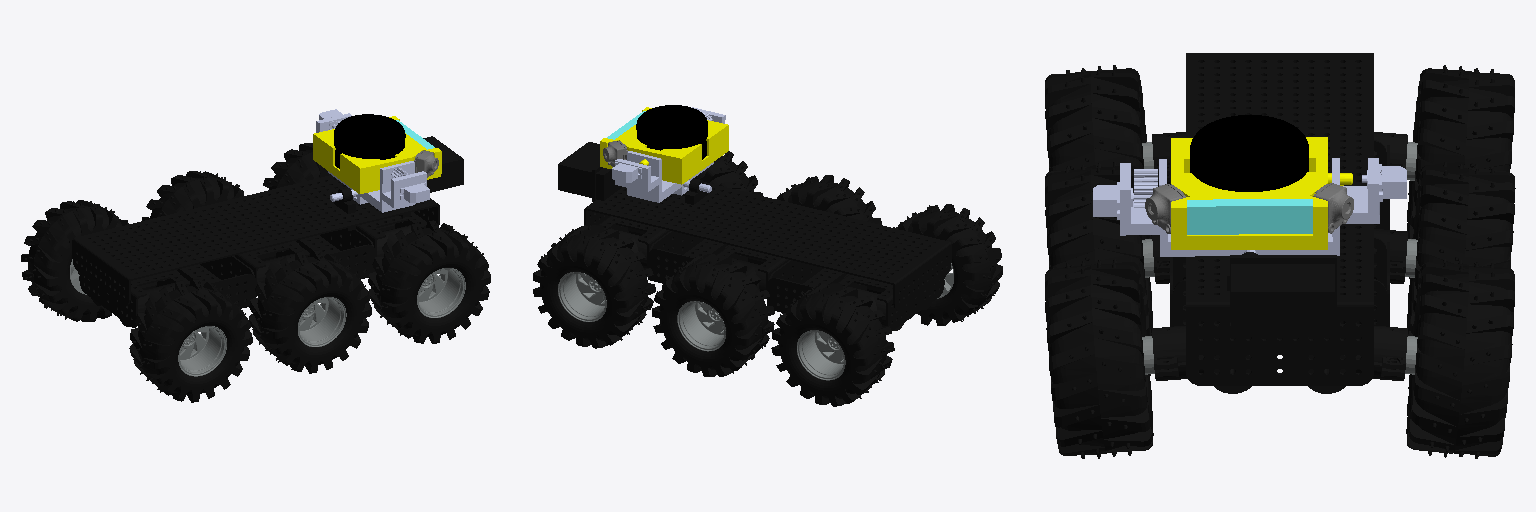
--- Facts derived from the render (not from the file) ---
Views: 3 orthographic renders of the robot side by side, from view 1: azimuth 30°, elevation 25°; view 2: azimuth 150°, elevation 25°; view 3: azimuth 270°, elevation 25°.
Model eyerobot with 26 links and 25 joints (2 revolute, 6 continuous, 17 fixed), rooted at base_footprint, posed every joint at zero.
Visible links, largest first — view 1: base_link, tire_mr, tire_rr, tire_fr, tire_rl, gimbal_pitch, gimbal_roll, rplidar, tire_ml, rim_rr, rim_fr, rim_mr (+1 smaller); view 2: base_link, tire_fl, tire_rl, tire_ml, tire_rr, gimbal_pitch, rplidar, gimbal_roll, tire_mr, rim_ml, rim_fl, rim_rl (+1 smaller); view 3: base_link, tire_fl, tire_fr, tire_rl, tire_ml, tire_rr, rplidar, tire_mr, gimbal_roll, gimbal_pitch, R200, motor_fr (+7 smaller).
Link boxes in pixels (bbox=[...]): base_link: bbox=[72, 136, 463, 327]; tire_mr: bbox=[249, 250, 371, 373]; tire_rr: bbox=[129, 279, 252, 402]; tire_fr: bbox=[368, 221, 490, 343]; tire_rl: bbox=[21, 200, 128, 321]; gimbal_pitch: bbox=[313, 116, 441, 193]; gimbal_roll: bbox=[316, 109, 429, 212]; rplidar: bbox=[334, 114, 405, 168]; tire_ml: bbox=[142, 171, 243, 220]; rim_rr: bbox=[178, 326, 226, 376]; rim_fr: bbox=[417, 268, 465, 317]; rim_mr: bbox=[298, 297, 346, 346]; base_link: bbox=[558, 142, 951, 330]; tire_fl: bbox=[533, 225, 655, 348]; tire_rl: bbox=[771, 283, 894, 406]; tire_ml: bbox=[652, 254, 774, 376]; tire_rr: bbox=[893, 204, 1002, 325]; gimbal_pitch: bbox=[600, 107, 728, 184]; rplidar: bbox=[636, 105, 707, 159]; gimbal_roll: bbox=[612, 107, 725, 202]; tire_mr: bbox=[776, 175, 881, 224]; rim_ml: bbox=[677, 301, 725, 351]; rim_fl: bbox=[558, 272, 606, 321]; rim_rl: bbox=[797, 330, 845, 380]; base_link: bbox=[1170, 53, 1389, 385]; tire_fl: bbox=[1406, 259, 1514, 458]; tire_fr: bbox=[1045, 259, 1153, 458]; tire_rl: bbox=[1407, 65, 1514, 238]; tire_ml: bbox=[1407, 162, 1515, 335]; tire_rr: bbox=[1045, 65, 1151, 238]; rplidar: bbox=[1190, 115, 1308, 191]; tire_mr: bbox=[1045, 162, 1152, 335]; gimbal_roll: bbox=[1093, 158, 1406, 256]; gimbal_pitch: bbox=[1171, 137, 1352, 249]; R200: bbox=[1187, 199, 1312, 234]; motor_fr: bbox=[1152, 326, 1251, 393].
Size in the robot's own frame: 0.4456 by 0.2998 by 0.2133 metres.
25 mesh visuals loaded from 24 distinct referenced files (24 binary STL).

robot.urdf — eyerobot:
<robot name="eyerobot">

<gazebo>
 <plugin name="gazebo_ros_control" filename="libgazebo_ros_control.so">
 <robotNamespace>/eyerobot</robotNamespace>
 <robotSimType>gazebo_ros_control/DefaultRobotHWSim</robotSimType>
 </plugin>
 <plugin name="imu_plugin" filename="libgazebo_ros_imu.so">
   <alwaysOn>true</alwaysOn>
   <bodyName>base_link</bodyName>
   <topicName>imu_base</topicName>
   <serviceName>imu_base_service</serviceName>
   <gaussianNoise>0.0</gaussianNoise>
   <updateRate>20.0</updateRate>
 </plugin>
 <plugin name="imu_plugin" filename="libgazebo_ros_imu.so">
   <alwaysOn>true</alwaysOn>
   <bodyName>gimbal_roll</bodyName>
   <topicName>imu_gimbal</topicName>
   <serviceName>imu_gimbal_service</serviceName>
   <gaussianNoise>0.0</gaussianNoise>
   <updateRate>20.0</updateRate>
 </plugin>

  <plugin name="skid_steer_drive_controller" filename="libgazebo_ros_skid_steer_drive.so">
    <updateRate>100.0</updateRate>
    <robotNamespace>/eyerobot</robotNamespace>
    <leftFrontJoint>motor_to_rim_fl</leftFrontJoint>
    <rightFrontJoint>motor_to_rim_fr</rightFrontJoint>
    <leftRearJoint>motor_to_rim_rl</leftRearJoint>
    <rightRearJoint>motor_to_rim_rr</rightRearJoint>
    <wheelSeparation>0.300</wheelSeparation>
    <wheelDiameter>0.120</wheelDiameter>
    <robotBaseFrame>base_link</robotBaseFrame>
    <torque>20</torque>
    <topicName>cmd_vel</topicName>
    <broadcastTF>false</broadcastTF>
  </plugin>

</gazebo>

<!-- <transmission name="trans_fl">
 <type>transmission_interface_SimpleTransmission</type>
 <joint name="motor_to_rim_fl">
  <hardwareInterface>EffortJointInterface</hardwareInterface>
 </joint>
 <actuator name="motor_fl">
  <hardwareInterface>EffortJointInterface</hardwareInterface>
  <mechanicalReduction>75</mechanicalReduction>
 </actuator>
</transmission>

<transmission name="trans_fr">
 <type>transmission_interface_SimpleTransmission</type>
 <joint name="motor_to_rim_fr">
  <hardwareInterface>EffortJointInterface</hardwareInterface>
 </joint>
 <actuator name="motor_fr">
  <hardwareInterface>EffortJointInterface</hardwareInterface>
  <mechanicalReduction>75</mechanicalReduction>
 </actuator>
</transmission>

<transmission name="trans_ml">
 <type>transmission_interface_SimpleTransmission</type>
 <joint name="motor_to_rim_ml">
  <hardwareInterface>EffortJointInterface</hardwareInterface>
 </joint>
 <actuator name="motor_ml">
  <hardwareInterface>EffortJointInterface</hardwareInterface>
  <mechanicalReduction>75</mechanicalReduction>
 </actuator>
</transmission>

<transmission name="trans_mr">
 <type>transmission_interface_SimpleTransmission</type>
 <joint name="motor_to_rim_mr">
  <hardwareInterface>EffortJointInterface</hardwareInterface>
 </joint>
 <actuator name="motor_mr">
  <hardwareInterface>EffortJointInterface</hardwareInterface>
  <mechanicalReduction>75</mechanicalReduction>
 </actuator>
</transmission>

<transmission name="trans_rl">
 <type>transmission_interface_SimpleTransmission</type>
 <joint name="motor_to_rim_rl">
  <hardwareInterface>EffortJointInterface</hardwareInterface>
 </joint>
 <actuator name="motor_rl">
  <hardwareInterface>EffortJointInterface</hardwareInterface>
  <mechanicalReduction>75</mechanicalReduction>
 </actuator>
</transmission>

<transmission name="trans_rr">
 <type>transmission_interface_SimpleTransmission</type>
 <joint name="motor_to_rim_rr">
  <hardwareInterface>EffortJointInterface</hardwareInterface>
 </joint>
 <actuator name="motor_rr">
  <hardwareInterface>EffortJointInterface</hardwareInterface>
  <mechanicalReduction>75</mechanicalReduction>
 </actuator>
</transmission> -->

<transmission name="gimbal_roll">
 <type>transmission_interface_SimpleTransmission</type>
 <joint name="base_link_to_gimbal_roll">
  <hardwareInterface>EffortJointInterface</hardwareInterface>
 </joint>
 <actuator name="gimbal_roll">
  <hardwareInterface>EffortJointInterface</hardwareInterface>
  <mechanicalReduction>1</mechanicalReduction>
 </actuator>
</transmission>

<transmission name="gimbal_pitch">
 <type>transmission_interface_SimpleTransmission</type>
 <joint name="gimbal_roll_to_pitch">
  <hardwareInterface>EffortJointInterface</hardwareInterface>
 </joint>
 <actuator name="gimbal_pitch">
  <hardwareInterface>EffortJointInterface</hardwareInterface>
  <mechanicalReduction>1</mechanicalReduction>
 </actuator>
</transmission>

<gazebo reference="base_link">
      <material>Gazebo/FlatBlack</material>
</gazebo>

<gazebo reference="gimbal_pitch">
      <material>Gazebo/DarkYellow</material>
</gazebo>

<gazebo reference="gimbal_roll">
      <material>Gazebo/ZincYellow</material>
</gazebo>

<gazebo reference="rplidar">
<material>Gazebo/TurquoiseGlowOutline</material>
<sensor type="gpu_ray" name="rplidar">
      <pose>0 0 0 0 0 0</pose>
      <visualize>false</visualize>
      <update_rate>10</update_rate>
      <ray>
        <scan>
          <horizontal>
            <samples>400</samples>
            <resolution>0.9</resolution>
            <min_angle>-3.1415926535</min_angle>
            <max_angle>3.1415926535</max_angle>
          </horizontal>
        </scan>
        <range>
          <min>0.015</min>
          <max>6.0</max>
          <resolution>0.005</resolution>
        </range>
        <noise>
          <type>gaussian</type>
          <mean>0.0</mean>
          <stddev>0.001</stddev>
        </noise>
      </ray>
      <plugin name="gazebo_ros_rplidar_controller" filename="libgazebo_ros_gpu_laser.so">
        <topicName>/laser/scan</topicName>
  <robotNamespace>eyerobot</robotNamespace>
        <frameName>rplidar</frameName>
      </plugin>
    </sensor>
</gazebo>

<gazebo reference="R200">
      <material>Gazebo/SkyBlue</material>
</gazebo>
<gazebo reference="xs_left">
 <sensor type="camera" name="xsleft">
  <update_rate>15.0</update_rate>
  <camera name="head">
  <horizontal_fov>1.396234</horizontal_fov>
  <image>
   <width>2592</width>
   <height>1944</height>
   <format>R8G8B8</format>
  </image>
  <clip>
   <near>0.02</near>
   <far>300</far>
  </clip>
  <noise>
   <type>gaussian</type>
   <mean>0.0</mean>
   <stddev>0.007</stddev>
  </noise>
 </camera>
 <plugin name="camera controller" filename="libgazebo_ros_camera.so">
  <alwaysOn>true</alwaysOn>
  <updateRate>0.0</updateRate>
  <cameraName>xsleft</cameraName>
  <robotNamespace>eyerobot</robotNamespace>
  <imageTopicName>xsleft/image_raw</imageTopicName>
  <cameraInfoTopicName>xsleft/camera_info</cameraInfoTopicName>
  <frameName>xs_left</frameName>
  <hackBaseline>0.07</hackBaseline>
  <distortionK1>0.0</distortionK1>
  <distortionK2>0.0</distortionK2>
  <distortionK3>0.0</distortionK3>
  <distortionT1>0.0</distortionT1>
  <distortionT2>0.0</distortionT2>
 </plugin>
 </sensor>
      <material>Gazebo/DarkGrey</material>
</gazebo>

<gazebo reference="xs_right">
 <sensor type="camera" name="xsright">
  <update_rate>15.0</update_rate>
  <camera name="head">
  <horizontal_fov>1.396234</horizontal_fov>
  <image>
   <width>2592</width>
   <height>1944</height>
   <format>R8G8B8</format>
  </image>
  <clip>
   <near>0.02</near>
   <far>300</far>
  </clip>
  <noise>
   <type>gaussian</type>
   <mean>0.0</mean>
   <stddev>0.007</stddev>
  </noise>
 </camera>
 <plugin name="camera controller" filename="libgazebo_ros_camera.so">
  <robotNamespace>eyerobot</robotNamespace>
  <alwaysOn>true</alwaysOn>
  <updateRate>0.0</updateRate>
  <cameraName>xsright</cameraName>
  <imageTopicName>xsright/image_raw</imageTopicName>
  <cameraInfoTopicName>xsright/camera_info</cameraInfoTopicName>
  <frameName>xs_right</frameName>
  <hackBaseline>0.07</hackBaseline>
  <distortionK1>0.0</distortionK1>
  <distortionK2>0.0</distortionK2>
  <distortionK3>0.0</distortionK3>
  <distortionT1>0.0</distortionT1>
  <distortionT2>0.0</distortionT2>
 </plugin>
 </sensor>
      <material>Gazebo/DarkGrey</material>
</gazebo>


<gazebo reference="motor_fl">
      <material>Gazebo/Black</material>
</gazebo>

<gazebo reference="rim_fl">
      <material>Gazebo/Red</material>
</gazebo>

<gazebo reference="tire_fl">
      <material>Gazebo/Black</material>
</gazebo>

<gazebo reference="motor_fr">
      <material>Gazebo/Black</material>
</gazebo>

<gazebo reference="rim_fr">
      <material>Gazebo/Red</material>
</gazebo>

<gazebo reference="tire_fr">
      <material>Gazebo/Black</material>
</gazebo>

<gazebo reference="motor_ml">
      <material>Gazebo/Black</material>
</gazebo>

<gazebo reference="rim_ml">
      <material>Gazebo/Red</material>
</gazebo>

<gazebo reference="tire_ml">
      <material>Gazebo/Black</material>
</gazebo>

<gazebo reference="motor_mr">
      <material>Gazebo/Black</material>
</gazebo>

<gazebo reference="rim_mr">
      <material>Gazebo/Red</material>
</gazebo>

<gazebo reference="tire_mr">
      <material>Gazebo/Black</material>
</gazebo>

<gazebo reference="motor_rl">
      <material>Gazebo/Black</material>
</gazebo>

<gazebo reference="rim_rl">
      <material>Gazebo/Red</material>
</gazebo>

<gazebo reference="tire_rl">
      <material>Gazebo/Black</material>
</gazebo>

<gazebo reference="motor_rr">
      <material>Gazebo/Black</material>
</gazebo>

<gazebo reference="rim_rr">
      <material>Gazebo/Red</material>
</gazebo>

<gazebo reference="tire_rr">
      <material>Gazebo/Black</material>
</gazebo>


<link name="base_footprint">
</link>
<joint
    name="base_link_to_base_footprint"
    type="fixed">
    <origin
      xyz="0.0 0.0 0.0"
      rpy="0.0 0.0 0.0" />
    <parent
      link="base_footprint" />
    <child
      link="base_link" />
  </joint>


  <link
    name="base_link">
    <inertial>
      <origin
        xyz="-0.11952 -0.00038983 0.027091"
        rpy="0 0 0" />
      <mass
        value="3" />
      <inertia
        ixx="0.0007686"
        ixy="-5.2766E-06"
        ixz="-0.00077652"
        iyy="0.0074958"
        iyz="-1.5818E-06"
        izz="0.0076384" />
    </inertial>
    <visual>
      <origin
        xyz="0 0 0"
        rpy="0 0 0" />
      <geometry>
        <mesh
          filename="package://eyerobot_description/meshes/base_link.STL" />
      </geometry>
      <material
        name="">
        <color
          rgba="0.098039 0.098039 0.098039 1" />
      </material>
    </visual>
    <collision>
      <origin
        xyz="0 0 0"
        rpy="0 0 0" />
      <geometry>
        <mesh
          filename="package://eyerobot_description/meshes/base_link.STL" />
      </geometry>
    </collision>
  </link>
  <link
    name="gimbal_roll">
    <inertial>
      <origin
        xyz="0.0044558 -0.001978 0.016919"
        rpy="0 0 0" />
      <mass
        value="0.2" />
      <inertia
        ixx="0.00036642"
        ixy="-3.4695E-07"
        ixz="-6.6211E-07"
        iyy="4.3717E-05"
        iyz="-8.9689E-06"
        izz="0.00035522" />
    </inertial>
    <visual>
      <origin
        xyz="0 0 0"
        rpy="0 0 0" />
      <geometry>
        <mesh
          filename="package://eyerobot_description/meshes/gimbal_roll.STL" />
      </geometry>
      <material
        name="">
        <color
          rgba="0.79216 0.81961 0.93333 1" />
      </material>
    </visual>
    <collision>
      <origin
        xyz="0 0 0"
        rpy="0 0 0" />
      <geometry>
        <mesh
          filename="package://eyerobot_description/meshes/gimbal_roll.STL" />
      </geometry>
    </collision>
  </link>
  <joint
    name="base_link_to_gimbal_roll"
    type="revolute">
    <origin
      xyz="-0.055 -0.019 0.058374"
      rpy="0 0 0" />
    <parent
      link="base_link" />
    <child
      link="gimbal_roll" />
    <axis
      xyz="1 0 0" />
    <limit
      lower="-0.157"
      upper="0.157"
      effort="1000"
      velocity="0.5" />
  </joint>
  <link
    name="gimbal_pitch">
    <inertial>
      <origin
        xyz="0.0091584 -0.052889 -0.0085312"
        rpy="0 0 0" />
      <mass
        value="0.2" />
      <inertia
        ixx="0.00019967"
        ixy="5.8935E-07"
        ixz="4.1406E-06"
        iyy="0.00017486"
        iyz="-5.4899E-07"
        izz="0.00034737" />
    </inertial>
    <visual>
      <origin
        xyz="0 0 0"
        rpy="0 0 0" />
      <geometry>
        <mesh
          filename="package://eyerobot_description/meshes/gimbal_pitch.STL" />
      </geometry>
      <material
        name="">
        <color
          rgba="1 1 0 1" />
      </material>
    </visual>
    <collision>
      <origin
        xyz="0 0 0"
        rpy="0 0 0" />
      <geometry>
        <mesh
          filename="package://eyerobot_description/meshes/gimbal_pitch.STL" />
      </geometry>
    </collision>
  </link>
  <joint
    name="gimbal_roll_to_pitch"
    type="revolute">
    <origin
      xyz="0.0015 0.053004 0.043303"
      rpy="0.005712 0 0" />
    <parent
      link="gimbal_roll" />
    <child
      link="gimbal_pitch" />
    <axis
      xyz="0 1 0" />
    <limit
      lower="-0.157"
      upper="0.157"
      effort="1000"
      velocity="0.5" />
  </joint>
  <link
    name="rplidar">
    <inertial>
      <origin
        xyz="-0.00051123 0.00023847 -0.011452"
        rpy="0 0 0" />
      <mass
        value="0.19" />
      <inertia
        ixx="8.5126E-05"
        ixy="-5.9886E-08"
        ixz="1.2456E-06"
        iyy="8.5104E-05"
        iyz="-5.8097E-07"
        izz="0.00012374" />
    </inertial>
    <visual>
      <origin
        xyz="0 0 0"
        rpy="0 0 0" />
      <geometry>
        <mesh
          filename="package://eyerobot_description/meshes/rplidar.STL" />
      </geometry>
      <material
        name="">
        <color
          rgba="0 0 0 1" />
      </material>
    </visual>
    <collision>
      <origin
        xyz="0 0 0"
        rpy="0 0 0" />
      <geometry>
        <mesh
          filename="package://eyerobot_description/meshes/rplidar.STL" />
      </geometry>
    </collision>
  </link>
  <joint
    name="gimbal_to_rplidar"
    type="fixed">
    <origin
      xyz="0.00055195024456528 -0.0532500000000004 0.020992745197508"
      rpy="0 0.0262863720718527 0" />
    <parent
      link="gimbal_pitch" />
    <child
      link="rplidar" />
    <axis
      xyz="0 0 -1" />
  </joint>
  <link
    name="R200">
    <inertial>
      <origin
        xyz="0 0 0.005"
        rpy="0 0 0" />
      <mass
        value="0.05" />
      <inertia
        ixx="6.6667E-07"
        ixy="-1.0087E-21"
        ixz="-3.2279E-22"
        iyy="8.6667E-06"
        iyz="-3.9705E-23"
        izz="9.0667E-06" />
    </inertial>
    <visual>
      <origin
        xyz="0 0 0"
        rpy="0 0 0" />
      <geometry>
        <mesh
          filename="package://eyerobot_description/meshes/R200.STL" />
      </geometry>
      <material
        name="">
        <color
          rgba="0.50196 1 1 1" />
      </material>
    </visual>
    <collision>
      <origin
        xyz="0 0 0"
        rpy="0 0 0" />
      <geometry>
        <mesh
          filename="package://eyerobot_description/meshes/R200.STL" />
      </geometry>
    </collision>
  </link>
  <joint
    name="gimbal_to_r200"
    type="fixed">
    <origin
      xyz="0.0579799629264532 -0.0532500000000001 -0.00152443400880012"
      rpy="1.54450995472305 0 -1.5707963267949" />
    <parent
      link="gimbal_pitch" />
    <child
      link="R200" />
    <axis
      xyz="0 0 0" />
  </joint>
  <link
    name="xs_left">
    <inertial>
      <origin
        xyz="-0.010854 0 -0.0025458"
        rpy="0 0 0" />
      <mass
        value="0.012" />
      <inertia
        ixx="7.2174E-07"
        ixy="-1.8561E-09"
        ixz="-4.4204E-08"
        iyy="6.585E-07"
        iyz="3.8508E-09"
        izz="5.4249E-07" />
    </inertial>
    <visual>
      <origin
        xyz="0 0 0"
        rpy="0 0 0" />
      <geometry>
        <mesh
          filename="package://eyerobot_description/meshes/xs_left.STL" />
      </geometry>
      <material
        name="">
        <color
          rgba="0.50196 0.50196 0.50196 1" />
      </material>
    </visual>
    <collision>
      <origin
        xyz="0 0 0"
        rpy="0 0 0" />
      <geometry>
        <mesh
          filename="package://eyerobot_description/meshes/xs_left.STL" />
      </geometry>
    </collision>
  </link>
  <joint
    name="gimbal_to_xs_left"
    type="fixed">
    <origin
      xyz="0.044365753805054 0.00816243903404872 0.000584121382011579"
      rpy="-0.0089763100437219 0.0141113521004524 1.00422360098505" />
    <parent
      link="gimbal_pitch" />
    <child
      link="xs_left" />
    <axis
      xyz="0 0 0" />
  </joint>
  <link
    name="xs_right">
    <inertial>
      <origin
        xyz="-0.010854 -0.00015722 -0.0025409"
        rpy="0 0 0" />
      <mass
        value="0.012" />
      <inertia
        ixx="7.2175E-07"
        ixy="-4.6141E-09"
        ixz="-4.4012E-08"
        iyy="6.586E-07"
        iyz="-3.39E-09"
        izz="5.4254E-07" />
    </inertial>
    <visual>
      <origin
        xyz="0 0 0"
        rpy="0 0 0" />
      <geometry>
        <mesh
          filename="package://eyerobot_description/meshes/xs_right.STL" />
      </geometry>
      <material
        name="">
        <color
          rgba="0.50196 0.50196 0.50196 1" />
      </material>
    </visual>
    <collision>
      <origin
        xyz="0 0 0"
        rpy="0 0 0" />
      <geometry>
        <mesh
          filename="package://eyerobot_description/meshes/xs_right.STL" />
      </geometry>
    </collision>
  </link>
  <joint
    name="gimbal_to_xs_right"
    type="fixed">
    <origin
      xyz="0.0443657538050541 -0.114662439034049 0.000584121382015315"
      rpy="0.00897631004372173 0.0141113521004521 -1.00422360098505" />
    <parent
      link="gimbal_pitch" />
    <child
      link="xs_right" />
    <axis
      xyz="0 0 0" />
  </joint>

  <link name="motor_fl">
    <inertial>
      <origin
        xyz="0 0.0094382 0 "
        rpy="0 0 0" />
      <mass
        value="0.05" />
      <inertia
        ixx="2.3929E-05"
        ixy="2.0571E-09"
        ixz="-6.1907E-11"
        iyy="2.5842E-05"
        iyz="-6.227E-09"
        izz="3.8978E-05" />
    </inertial>
    <visual>
      <origin
        xyz="0 0 0"
        rpy="0 0 0" />
      <geometry>
        <mesh
          filename="package://eyerobot_description/meshes/motor_fl.STL" />
      </geometry>
      <material
        name="">
        <color
          rgba="0.1098 0.1098 0.1098 1" />
      </material>
    </visual>
    <collision>
      <origin
        xyz="0 0 0"
        rpy="0 0 0" />
      <geometry>
        <mesh
          filename="package://eyerobot_description/meshes/motor_fl.STL" />
      </geometry>
    </collision>
  </link>
  <joint
    name="base_link_to_motor_fl"
    type="fixed">
    <origin
      xyz="-0.035 0.03 -0.0086256"
      rpy="-0.087266 0 0" />
    <parent
      link="base_link" />
    <child
      link="motor_fl" />
    <axis
      xyz="1 0 0" />
    <limit
      lower="-0.314"
      upper="0.314"
      effort="1000"
      velocity="0.5" />
<dynamics damping="0.7" friction="100"/>
  </joint>

  <link name="rim_fl">
    <inertial>
      <origin
        xyz="0 -0.0095265 0"
        rpy="0 0 0" />
      <mass
        value="0.15" />
      <inertia
        ixx="6.4722E-05"
        ixy="1.8838E-10"
        ixz="-1.3444E-09"
        iyy="2.9503E-05"
        iyz="-4.3786E-11"
        izz="6.4717E-05" />
    </inertial>
    <visual>
      <origin
        xyz="0 0 0"
        rpy="0 0 0" />
      <geometry>
        <mesh filename="package://eyerobot_description/meshes/rim_fl.STL" />
      </geometry>
      <material
        name="">
        <color rgba="0.52941 0.54902 0.54902 1" />
      </material>
    </visual>
    <collision>
      <origin
        xyz="0 0 0"
        rpy="0 0 0" />
      <geometry>
        <mesh
          filename="package://eyerobot_description/meshes/rim_fl.STL" />
      </geometry>
    </collision>
  </link>
  <joint
    name="motor_to_rim_fl"
    type="continuous">
    <origin
      xyz="0 0.0755 0"
      rpy="0 0 0" />
    <parent
      link="motor_fl" />
    <child
      link="rim_fl" />
    <axis
      xyz="0 1 0" />
  </joint>
  <link
    name="tire_fl">
    <inertial>
      <origin
        xyz="0 0.01 0"
        rpy="0 0 0" />
      <mass
        value="0.01" />
      <inertia
        ixx="0.00058217"
        ixy="-3.5013E-12"
        ixz="-1.6912E-12"
        iyy="0.00092654"
        iyz="-1.0805E-12"
        izz="0.00058217" />
    </inertial>
    <visual>
      <origin
        xyz="0 0 0"
        rpy="0 0 0" />
      <geometry>
        <mesh
          filename="package://eyerobot_description/meshes/tire_fl.STL" />
      </geometry>
      <material
        name="">
        <color
          rgba="0.098039 0.098039 0.098039 1" />
      </material>
    </visual>
    <collision>
      <origin
        xyz="0 0 0"
        rpy="0 0 0" />
      <geometry>
        <mesh
          filename="package://eyerobot_description/meshes/tire_fl.STL" />
      </geometry>
    </collision>
  </link>
  <joint
    name="rim_to_tire_fl"
    type="fixed">
    <origin
      xyz="0 0 0"
      rpy="0 0 0" />
    <parent
      link="rim_fl" />
    <child
      link="tire_fl" />
    <axis
      xyz="0 1 0" />
  </joint>
 
  <link
    name="motor_ml">
    <inertial>
      <origin
        xyz="0 0.0094382 0"
        rpy="0 0 0" />
      <mass
        value="0.05" />
      <inertia
        ixx="2.3929E-05"
        ixy="-2.0673E-09"
        ixz="-6.2105E-11"
        iyy="2.5842E-05"
        iyz="6.2397E-09"
        izz="3.8978E-05" />
    </inertial>
    <visual>
      <origin
        xyz="0 0 0"
        rpy="0 0 0" />
      <geometry>
        <mesh
          filename="package://eyerobot_description/meshes/motor_ml.STL" />
      </geometry>
      <material
        name="">
        <color
          rgba="0.098039 0.098039 0.098039 1" />
      </material>
    </visual>
    <collision>
      <origin
        xyz="0 0 0"
        rpy="0 0 0" />
      <geometry>
        <mesh
          filename="package://eyerobot_description/meshes/motor_ml.STL" />
      </geometry>
    </collision>
  </link>
  <joint
    name="base_link_to_motor_ml"
    type="fixed">
    <origin
      xyz="-0.181 0.03 -0.0086256"
      rpy="-0.087266 0 0" />
    <parent
      link="base_link" />
    <child
      link="motor_ml" />
    <axis
      xyz="-1 0 0" />
    <limit
      lower="-0.314"
      upper="0.314"
      effort="1000"
      velocity="0.5" />
<dynamics damping="0.7" friction="100"/>
  </joint>
  <link
    name="rim_ml">
    <inertial>
      <origin
        xyz="0 -0.0095265 0"
        rpy="0 0 0" />
      <mass
        value="0.15" />
      <inertia
        ixx="6.4717E-05"
        ixy="7.3901E-12"
        ixz="6.9637E-14"
        iyy="2.9503E-05"
        iyz="-1.9326E-10"
        izz="6.4722E-05" />
    </inertial>
    <visual>
      <origin
        xyz="0 0 0"
        rpy="0 0 0" />
      <geometry>
        <mesh
          filename="package://eyerobot_description/meshes/rim_ml.STL" />
      </geometry>
      <material
        name="">
        <color
          rgba="0.52941 0.54902 0.54902 1" />
      </material>
    </visual>
    <collision>
      <origin
        xyz="0 0 0"
        rpy="0 0 0" />
      <geometry>
        <mesh
          filename="package://eyerobot_description/meshes/rim_ml.STL" />
      </geometry>
    </collision>
  </link>
  <joint
    name="motor_to_rim_ml"
    type="continuous">
    <origin
      xyz="0 0.0755 0"
      rpy="0 0 0" />
    <parent
      link="motor_ml" />
    <child
      link="rim_ml" />
    <axis
      xyz="0 1 0" />
  </joint>
  <link
    name="tire_ml">
    <inertial>
      <origin
        xyz="0 0.01 0"
        rpy="0 0 0" />
      <mass
        value="0.01" />
      <inertia
        ixx="0.00058217"
        ixy="-3.3233E-12"
        ixz="-1.9158E-12"
        iyy="0.00092654"
        iyz="-1.2105E-12"
        izz="0.00058217" />
    </inertial>
    <visual>
      <origin
        xyz="0 0 0"
        rpy="0 0 0" />
      <geometry>
        <mesh
          filename="package://eyerobot_description/meshes/tire_ml.STL" />
      </geometry>
      <material
        name="">
        <color
          rgba="0.098039 0.098039 0.098039 1" />
      </material>
    </visual>
    <collision>
      <origin
        xyz="0 0 0"
        rpy="0 0 0" />
      <geometry>
        <mesh
          filename="package://eyerobot_description/meshes/tire_ml.STL" />
      </geometry>
    </collision>
  </link>
  <joint
    name="rim_to_tire_ml"
    type="fixed">
    <origin
      xyz="0 0 0"
      rpy="0 0 0" />
    <parent
      link="rim_ml" />
    <child
      link="tire_ml" />
    <axis
      xyz="0 1 0" />
  </joint>
  <link
    name="motor_mr">
    <inertial>
      <origin
        xyz="0 -0.0094382 0"
        rpy="0 0 0" />
      <mass
        value="0.05" />
      <inertia
        ixx="2.3929E-05"
        ixy="2.0571E-09"
        ixz="6.1907E-11"
        iyy="2.5842E-05"
        iyz="6.227E-09"
        izz="3.8978E-05" />
    </inertial>
    <visual>
      <origin
        xyz="0 0 0"
        rpy="0 0 0" />
      <geometry>
        <mesh
          filename="package://eyerobot_description/meshes/motor_mr.STL" />
      </geometry>
      <material
        name="">
        <color
          rgba="0.098039 0.098039 0.098039 1" />
      </material>
    </visual>
    <collision>
      <origin
        xyz="0 0 0"
        rpy="0 0 0" />
      <geometry>
        <mesh
          filename="package://eyerobot_description/meshes/motor_mr.STL" />
      </geometry>
    </collision>
  </link>
  <joint
    name="base_link_to_motor_mr"
    type="fixed">
    <origin
      xyz="-0.181 -0.03 -0.0086256"
      rpy="0.087266 0 0" />
    <parent
      link="base_link" />
    <child
      link="motor_mr" />
    <axis
      xyz="-1 0 0" />
    <limit
      lower="-0.314"
      upper="0.314"
      effort="1000"
      velocity="0.5" />
<dynamics damping="0.7" friction="100"/>
  </joint>
  <link
    name="rim_mr">
    <inertial>
      <origin
        xyz="0 0.0095265 0"
        rpy="0 0 0" />
      <mass
        value="0.15" />
      <inertia
        ixx="6.4718E-05"
        ixy="9.866E-11"
        ixz="-2.4112E-09"
        iyy="2.9503E-05"
        iyz="-1.6634E-10"
        izz="6.472E-05" />
    </inertial>
    <visual>
      <origin
        xyz="0 0 0"
        rpy="0 0 0" />
      <geometry>
        <mesh
          filename="package://eyerobot_description/meshes/rim_mr.STL" />
      </geometry>
      <material
        name="">
        <color
          rgba="0.52941 0.54902 0.54902 1" />
      </material>
    </visual>
    <collision>
      <origin
        xyz="0 0 0"
        rpy="0 0 0" />
      <geometry>
        <mesh
          filename="package://eyerobot_description/meshes/rim_mr.STL" />
      </geometry>
    </collision>
  </link>
  <joint
    name="motor_to_rim_mr"
    type="continuous">
    <origin
      xyz="0 -0.0755000000000001 0"
      rpy="0 0 0" />
    <parent
      link="motor_mr" />
    <child
      link="rim_mr" />
    <axis
      xyz="0 1 0" />
  </joint>
  <link
    name="tire_mr">
    <inertial>
      <origin
        xyz="0 -0.01 0"
        rpy="0 0 0" />
      <mass
        value="0.01" />
      <inertia
        ixx="0.00058217"
        ixy="-2.9294E-12"
        ixz="5.3287E-12"
        iyy="0.00092654"
        iyz="9.7155E-13"
        izz="0.00058217" />
    </inertial>
    <visual>
      <origin
        xyz="0 0 0"
        rpy="0 0 0" />
      <geometry>
        <mesh
          filename="package://eyerobot_description/meshes/tire_mr.STL" />
      </geometry>
      <material
        name="">
        <color
          rgba="0.098039 0.098039 0.098039 1" />
      </material>
    </visual>
    <collision>
      <origin
        xyz="0 0 0"
        rpy="0 0 0" />
      <geometry>
        <mesh
          filename="package://eyerobot_description/meshes/tire_mr.STL" />
      </geometry>
    </collision>
  </link>
  <joint
    name="rim_to_tire_mr"
    type="fixed">
    <origin
      xyz="0 0 0"
      rpy="0 0 0" />
    <parent
      link="rim_mr" />
    <child
      link="tire_mr" />
    <axis
      xyz="0 1 0" />
  </joint>
  <link
    name="motor_rl">
    <inertial>
      <origin
        xyz="0 0.0094382 0"
        rpy="0 0 0" />
      <mass
        value="0.05" />
      <inertia
        ixx="2.3929E-05"
        ixy="-2.0673E-09"
        ixz="-6.2105E-11"
        iyy="2.5842E-05"
        iyz="6.2397E-09"
        izz="3.8978E-05" />
    </inertial>
    <visual>
      <origin
        xyz="0 0 0"
        rpy="0 0 0" />
      <geometry>
        <mesh
          filename="package://eyerobot_description/meshes/motor_rl.STL" />
      </geometry>
      <material
        name="">
        <color
          rgba="0.1098 0.1098 0.1098 1" />
      </material>
    </visual>
    <collision>
      <origin
        xyz="0 0 0"
        rpy="0 0 0" />
      <geometry>
        <mesh
          filename="package://eyerobot_description/meshes/motor_rl.STL" />
      </geometry>
    </collision>
  </link>
  <joint
    name="base_link_to_motor_rl"
    type="fixed">
    <origin
      xyz="-0.327 0.03 -0.0086256"
      rpy="-0.087266 0 0" />
    <parent
      link="base_link" />
    <child
      link="motor_rl" />
    <axis
      xyz="-1 0 0" />
    <limit
      lower="-0.314"
      upper="0.314"
      effort="1000"
      velocity="0.5" />
<dynamics damping="0.7" friction="100"/>
  </joint>
  <link
    name="rim_rl">
    <inertial>
      <origin
        xyz="0 -0.0095265 0"
        rpy="0 0 0" />
      <mass
        value="0.15" />
      <inertia
        ixx="6.4717E-05"
        ixy="7.3901E-12"
        ixz="5.0493E-14"
        iyy="2.9503E-05"
        iyz="-1.9326E-10"
        izz="6.4722E-05" />
    </inertial>
    <visual>
      <origin
        xyz="0 0 0"
        rpy="0 0 0" />
      <geometry>
        <mesh
          filename="package://eyerobot_description/meshes/rim_rl.STL" />
      </geometry>
      <material
        name="">
        <color
          rgba="0.52941 0.54902 0.54902 1" />
      </material>
    </visual>
    <collision>
      <origin
        xyz="0 0 0"
        rpy="0 0 0" />
      <geometry>
        <mesh
          filename="package://eyerobot_description/meshes/rim_rl.STL" />
      </geometry>
    </collision>
  </link>
  <joint
    name="motor_to_rim_rl"
    type="continuous">
    <origin
      xyz="0 0.0755 0"
      rpy="0 0 0" />
    <parent
      link="motor_rl" />
    <child
      link="rim_rl" />
    <axis
      xyz="0 1 0" />
  </joint>
  <link
    name="tire_rl">
    <inertial>
      <origin
        xyz="0 0.01 0"
        rpy="0 0 0" />
      <mass
        value="0.01" />
      <inertia
        ixx="0.00058217"
        ixy="-3.3761E-12"
        ixz="4.9731E-12"
        iyy="0.00092654"
        iyz="-1.104E-12"
        izz="0.00058217" />
    </inertial>
    <visual>
      <origin
        xyz="0 0 0"
        rpy="0 0 0" />
      <geometry>
        <mesh
          filename="package://eyerobot_description/meshes/tire_rl.STL" />
      </geometry>
      <material
        name="">
        <color
          rgba="0.098039 0.098039 0.098039 1" />
      </material>
    </visual>
    <collision>
      <origin
        xyz="0 0 0"
        rpy="0 0 0" />
      <geometry>
        <mesh
          filename="package://eyerobot_description/meshes/tire_rl.STL" />
      </geometry>
    </collision>
  </link>
  <joint
    name="rim_to_tire_rl"
    type="fixed">
    <origin
      xyz="0 0 0"
      rpy="0 0 0" />
    <parent
      link="rim_rl" />
    <child
      link="tire_rl" />
    <axis
      xyz="0 1 0" />
  </joint>
  <link
    name="motor_rr">
    <inertial>
      <origin
        xyz="0 -0.0094382 0"
        rpy="0 0 0" />
      <mass
        value="0.05" />
      <inertia
        ixx="2.3929E-05"
        ixy="-2.0673E-09"
        ixz="6.2105E-11"
        iyy="2.5842E-05"
        iyz="-6.2397E-09"
        izz="3.8978E-05" />
    </inertial>
    <visual>
      <origin
        xyz="0 0 0"
        rpy="0 0 0" />
      <geometry>
        <mesh
          filename="package://eyerobot_description/meshes/motor_rr.STL" />
      </geometry>
      <material
        name="">
        <color
          rgba="0.098039 0.098039 0.098039 1" />
      </material>
    </visual>
    <collision>
      <origin
        xyz="0 0 0"
        rpy="0 0 0" />
      <geometry>
        <mesh
          filename="package://eyerobot_description/meshes/motor_rr.STL" />
      </geometry>
    </collision>
  </link>
  <joint
    name="base_link_to_motor_rr"
    type="fixed">
    <origin
      xyz="-0.327 -0.03 -0.0086256"
      rpy="0.087266 0 0" />
    <parent
      link="base_link" />
    <child
      link="motor_rr" />
    <axis
      xyz="1 0 0" />
    <limit
      lower="-0.314"
      upper="0.314"
      effort="1000"
      velocity="0.5" />
<dynamics damping="0.7" friction="100"/>
  </joint>
  <link
    name="rim_rr">
    <inertial>
      <origin
        xyz="0 0.0095265 0"
        rpy="0 0 0" />
      <mass
        value="0.15" />
      <inertia
        ixx="6.4722E-05"
        ixy="-1.9125E-10"
        ixz="9.683E-10"
        iyy="2.9503E-05"
        iyz="-2.8747E-11"
        izz="6.4717E-05" />
    </inertial>
    <visual>
      <origin
        xyz="0 0 0"
        rpy="0 0 0" />
      <geometry>
        <mesh
          filename="package://eyerobot_description/meshes/rim_rr.STL" />
      </geometry>
      <material
        name="">
        <color
          rgba="0.52941 0.54902 0.54902 1" />
      </material>
    </visual>
    <collision>
      <origin
        xyz="0 0 0"
        rpy="0 0 0" />
      <geometry>
        <mesh
          filename="package://eyerobot_description/meshes/rim_rr.STL" />
      </geometry>
    </collision>
  </link>
  <joint
    name="motor_to_rim_rr"
    type="continuous">
    <origin
      xyz="0 -0.0755 0"
      rpy="0.0 0.0 0.0" />
    <parent
      link="motor_rr" />
    <child
      link="rim_rr" />
    <axis
      xyz="0 1 0" />
  </joint>
  <link
    name="tire_rr">
    <inertial>
      <origin
        xyz="0 -0.01 0"
        rpy="0 0 0" />
      <mass
        value="0.01" />
      <inertia
        ixx="0.00058217"
        ixy="-2.5827E-12"
        ixz="5.227E-12"
        iyy="0.00092654"
        iyz="8.4744E-13"
        izz="0.00058217" />
    </inertial>
    <visual>
      <origin
        xyz="0 0 0"
        rpy="0 0 0" />
      <geometry>
        <mesh
          filename="package://eyerobot_description/meshes/tire_rr.STL" />
      </geometry>
      <material
        name="">
        <color
          rgba="0.098039 0.098039 0.098039 1" />
      </material>
    </visual>
    <collision>
      <origin
        xyz="0 0 0"
        rpy="0 0 0" />
      <geometry>
        <mesh
          filename="package://eyerobot_description/meshes/tire_rr.STL" />
      </geometry>
    </collision>
  </link>
  <joint
    name="rim_to_tire_rr"
    type="fixed">
    <origin
      xyz="0 0 0"
      rpy="0 0 0" />
    <parent
      link="rim_rr" />
    <child
      link="tire_rr" />
    <axis
      xyz="0 1 0" />
  </joint>


 <link
    name="motor_fr">
    <inertial>
      <origin
        xyz="0 -0.0094382 0"
        rpy="0 0 0" />
      <mass
        value="0.05" />
      <inertia
        ixx="2.3929E-05"
        ixy="2.0571E-09"
        ixz="6.1907E-11"
        iyy="2.5842E-05"
        iyz="6.227E-09"
        izz="3.8978E-05" />
    </inertial>
    <visual>
      <origin
        xyz="0 0 0"
        rpy="0 0 0" />
      <geometry>
        <mesh
          filename="package://eyerobot_description/meshes/motor_fr.STL" />
      </geometry>
      <material
        name="">
        <color
          rgba="0.1098 0.1098 0.1098 1" />
      </material>
    </visual>
    <collision>
      <origin
        xyz="0 0 0"
        rpy="0 0 0" />
      <geometry>
        <mesh
          filename="package://eyerobot_description/meshes/motor_fr.STL" />
      </geometry>
    </collision>
  </link>
 
  <link
    name="rim_fr">
    <inertial>
      <origin
        xyz="0 0.0095265 0"
        rpy="0 0 0" />
      <mass
        value="0.15" />
      <inertia
        ixx="6.4718E-05"
        ixy="9.866E-11"
        ixz="-2.4112E-09"
        iyy="2.9503E-05"
        iyz="-1.6634E-10"
        izz="6.472E-05" />
    </inertial>
    <visual>
      <origin
        xyz="0 0 0"
        rpy="0 0 0" />
      <geometry>
        <mesh
          filename="package://eyerobot_description/meshes/rim_mr.STL" />
      </geometry>
      <material
        name="">
        <color
          rgba="0.52941 0.54902 0.54902 1" />
      </material>
    </visual>
    <collision>
      <origin
        xyz="0 0 0"
        rpy="0 0 0" />
      <geometry>
        <mesh
          filename="package://eyerobot_description/meshes/rim_mr.STL" />
      </geometry>
    </collision>
  </link>

  <link
    name="tire_fr">
    <inertial>
      <origin
        xyz="0 -0.01 0"
        rpy="0 0 0" />
      <mass
        value="0.01" />
      <inertia
        ixx="0.00058217"
        ixy="-2.845E-12"
        ixz="3.3643E-12"
        iyy="0.00092654"
        iyz="1.0213E-12"
        izz="0.00058217" />
    </inertial>
    <visual>
      <origin
        xyz="0 0 0"
        rpy="0 0 0" />
      <geometry>
        <mesh
          filename="package://eyerobot_description/meshes/tire_fr.STL" />
      </geometry>
      <material
        name="">
        <color
          rgba="0.098039 0.098039 0.098039 1" />
      </material>
    </visual>
    <collision>
      <origin
        xyz="0 0 0"
        rpy="0 0 0" />
      <geometry>
        <mesh
          filename="package://eyerobot_description/meshes/tire_fr.STL" />
      </geometry>
    </collision>
  </link>

 <joint
    name="base_link_to_motor_fr"
    type="fixed">
    <origin
      xyz="-0.035 -0.03 -0.0086256"
      rpy="0.087266 0 0" />
    <parent
      link="base_link" />
    <child
      link="motor_fr" />
    <axis
      xyz="1 0 0" />
    <dynamics damping="0.7" friction="100"/>
    <limit
      lower="-0.314"
      upper="0.314"
      effort="1000"
      velocity="0.5" />
  </joint>

  <joint
    name="motor_to_rim_fr"
    type="continuous">
    <origin
      xyz="0 -0.0755 0"
      rpy="0.0 0.0 0.0" />
    <parent
      link="motor_fr" />
    <child
      link="rim_fr" />
    <axis
      xyz="0 1 0" />
  </joint>

  <joint
    name="rim_to_tire_fr"
    type="fixed">
    <origin
      xyz="0 0 0"
      rpy="0 0 0" />
    <parent
      link="rim_fr" />
    <child
      link="tire_fr" />
    <axis
      xyz="0 1 0" />
  </joint>

</robot>
